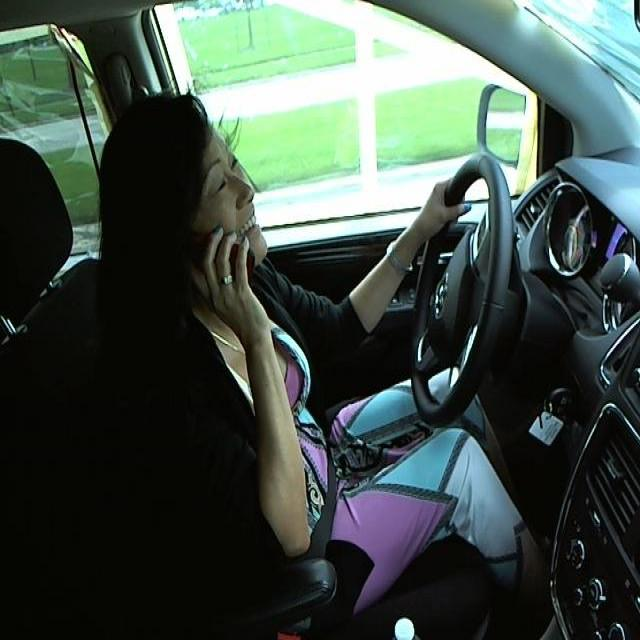using_phone: (91, 92, 294, 318)
